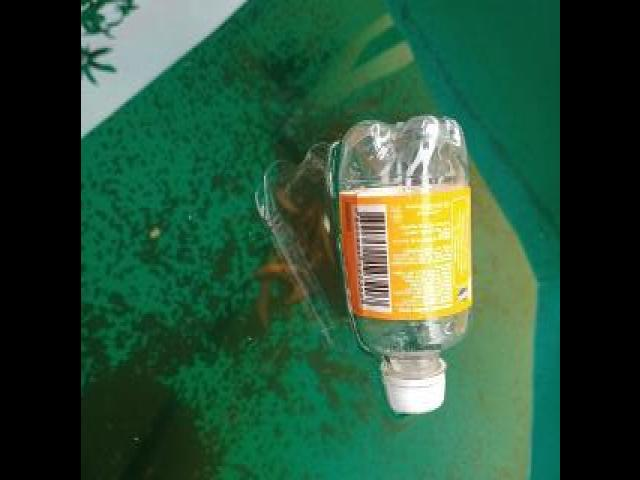Bottle: (328, 106, 478, 426)
